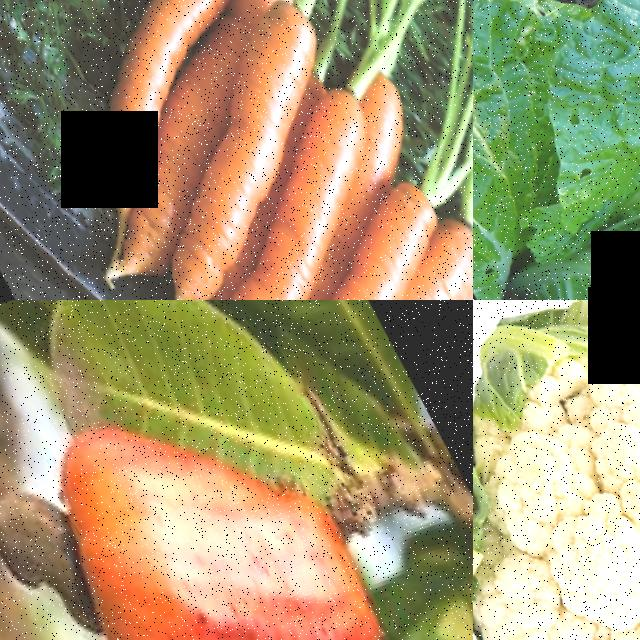cabbage: (473, 78, 640, 300)
carrot: (87, 0, 354, 199), (182, 104, 408, 275), (227, 150, 467, 300), (0, 0, 258, 134), (316, 244, 473, 300)
cashew: (0, 447, 120, 640)
cauliflower: (473, 300, 640, 640)
